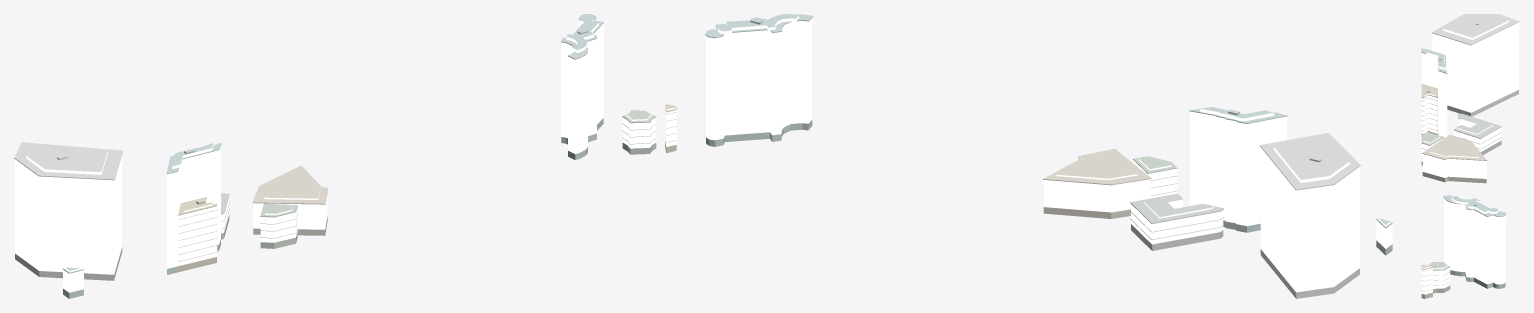
The model's file is buildings--11_-5-fine.glb.
3 renders of one model, left to right at view 1: azimuth 30°, elevation 25°; view 2: azimuth 150°, elevation 25°; view 3: azimuth 270°, elevation 25°, orthographic. The views are drawn at different scales.
Visible parts, largest first — view 1: block_-11_-5_office, block_-11_-5_roof, block_-11_-5_residential, block_-11_-5_darkglass, block_-11_-5_concrete, block_-11_-5_steel; view 2: block_-11_-5_office, block_-11_-5_roof, block_-11_-5_darkglass, block_-11_-5_residential, block_-11_-5_steel; view 3: block_-11_-5_office, block_-11_-5_roof, block_-11_-5_residential, block_-11_-5_darkglass, block_-11_-5_concrete, block_-11_-5_steel.
Boxes of the visible parts, x1=… form: block_-11_-5_office: x1=15, y1=19, x2=603, y2=292; block_-11_-5_roof: x1=14, y1=14, x2=676, y2=274; block_-11_-5_residential: x1=178, y1=104, x2=676, y2=265; block_-11_-5_darkglass: x1=15, y1=118, x2=676, y2=298; block_-11_-5_concrete: x1=178, y1=106, x2=676, y2=261; block_-11_-5_steel: x1=14, y1=18, x2=603, y2=273; block_-11_-5_office: x1=706, y1=16, x2=1392, y2=292; block_-11_-5_roof: x1=705, y1=14, x2=1392, y2=292; block_-11_-5_darkglass: x1=706, y1=120, x2=1392, y2=298; block_-11_-5_residential: x1=1131, y1=159, x2=1223, y2=244; block_-11_-5_steel: x1=705, y1=16, x2=1392, y2=228; block_-11_-5_office: x1=1421, y1=20, x2=1518, y2=284; block_-11_-5_roof: x1=1421, y1=14, x2=1519, y2=288; block_-11_-5_residential: x1=1421, y1=93, x2=1501, y2=294; block_-11_-5_darkglass: x1=1421, y1=90, x2=1518, y2=298; block_-11_-5_concrete: x1=1422, y1=94, x2=1501, y2=291; block_-11_-5_steel: x1=1421, y1=21, x2=1519, y2=216.
Size of the model in its own units: 365 by 60.46 by 71.13.
